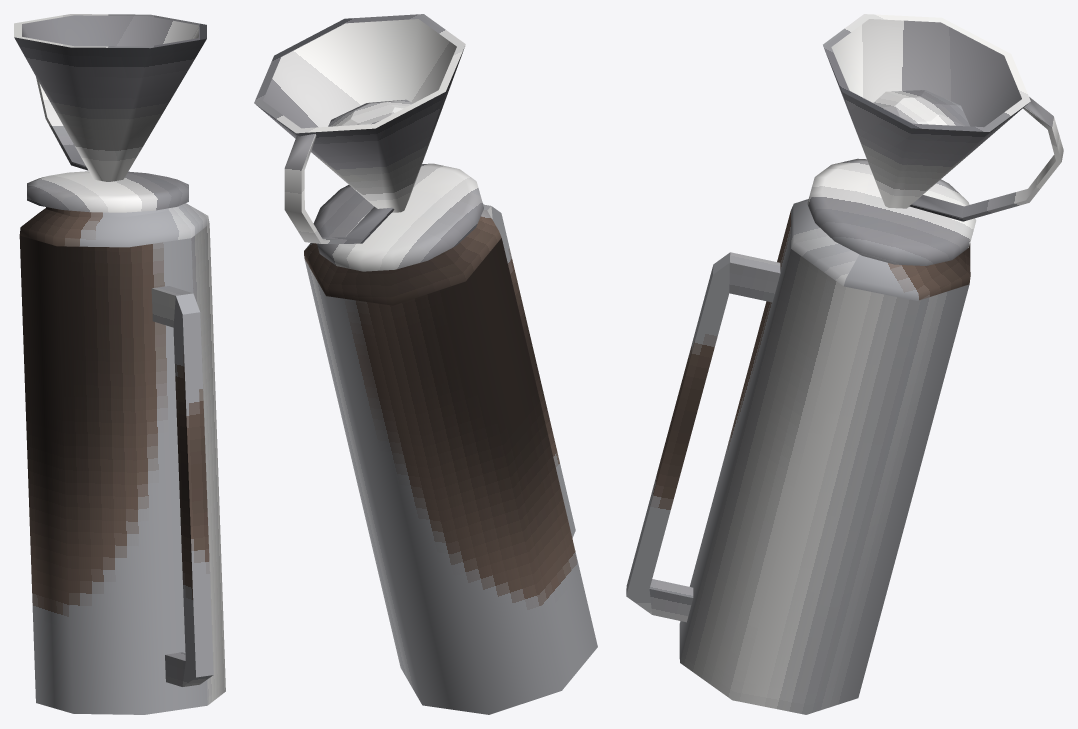
File: C_CoffeeThermos.fbx
The picture shows the model from 3 angles, left to right: view 1: azimuth 30°, elevation 25°; view 2: azimuth 150°, elevation 25°; view 3: azimuth 270°, elevation 25°; orthographic projection. The views are drawn at different scales.
Visible parts, largest first — view 1: CoffeeThermos; view 2: CoffeeThermos; view 3: CoffeeThermos.
Boxes of the visible parts, x1,y1,x2,y2 form: CoffeeThermos: (14, 14, 225, 714); CoffeeThermos: (254, 14, 597, 714); CoffeeThermos: (626, 14, 1063, 714).
Bounding box in the file's own units: 24.48 × 67.45 × 40.42.
